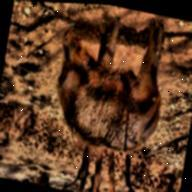boar: (37, 2, 183, 173)
